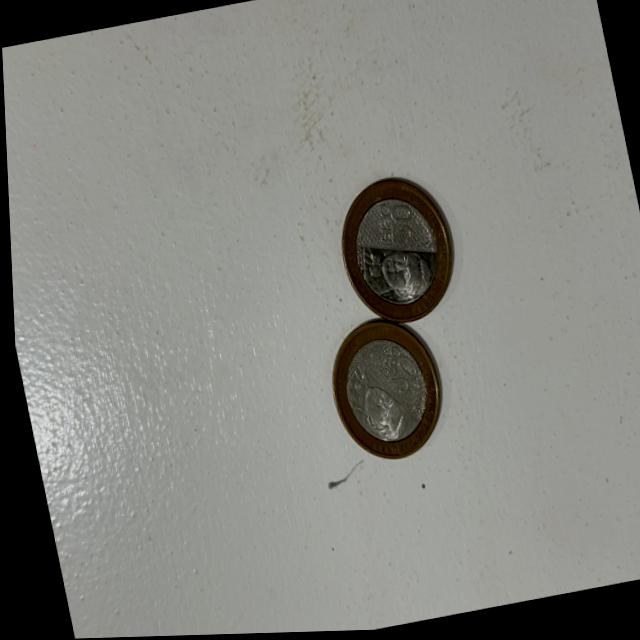20_New_Front: (365, 197, 424, 259), (369, 338, 423, 402)
